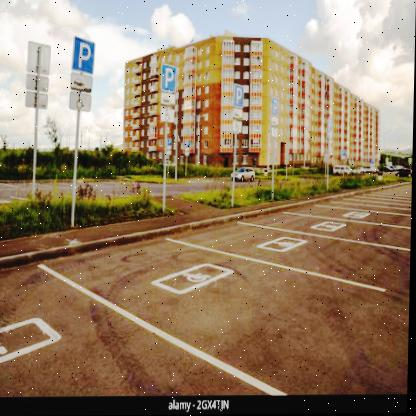Parking: (73, 30, 99, 72), (160, 60, 180, 92), (232, 87, 248, 104), (270, 97, 283, 117)
